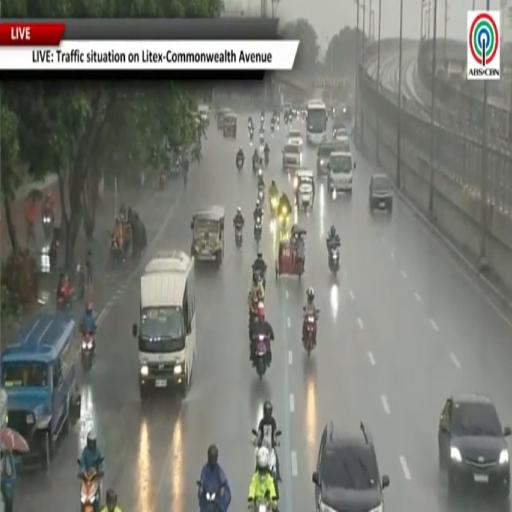bus: (307, 100, 327, 145)
car: (2, 313, 80, 468), (439, 394, 510, 499), (313, 422, 389, 511), (317, 140, 350, 177), (328, 152, 355, 194), (369, 174, 392, 213), (317, 141, 334, 175), (283, 141, 302, 170), (333, 126, 348, 140), (287, 130, 303, 143), (198, 104, 209, 122)
jeepney: (191, 206, 224, 264), (223, 114, 237, 137), (216, 108, 230, 130)
motorcycle: (261, 427, 281, 494), (197, 480, 225, 511), (81, 470, 100, 511), (303, 308, 319, 356), (253, 335, 269, 378), (81, 332, 95, 372), (57, 285, 74, 310), (253, 265, 266, 293), (75, 263, 85, 298), (110, 238, 124, 263), (42, 211, 54, 239), (278, 205, 291, 230), (251, 498, 272, 511), (329, 248, 339, 275), (254, 217, 262, 243), (270, 196, 278, 216), (235, 227, 242, 248), (236, 156, 244, 171), (159, 172, 166, 189), (258, 186, 264, 204), (253, 159, 259, 174), (264, 152, 269, 167), (259, 131, 264, 146), (249, 130, 253, 145), (271, 122, 275, 133), (284, 114, 288, 123), (261, 116, 264, 124)
truck: (133, 251, 196, 398)
